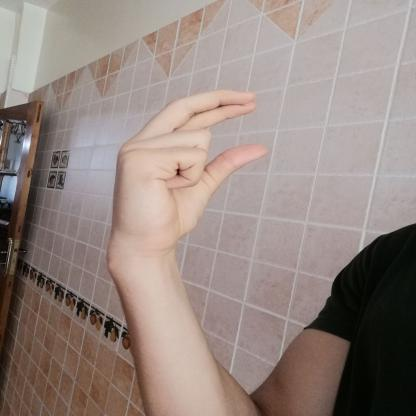DHELL: (100, 83, 277, 256)
